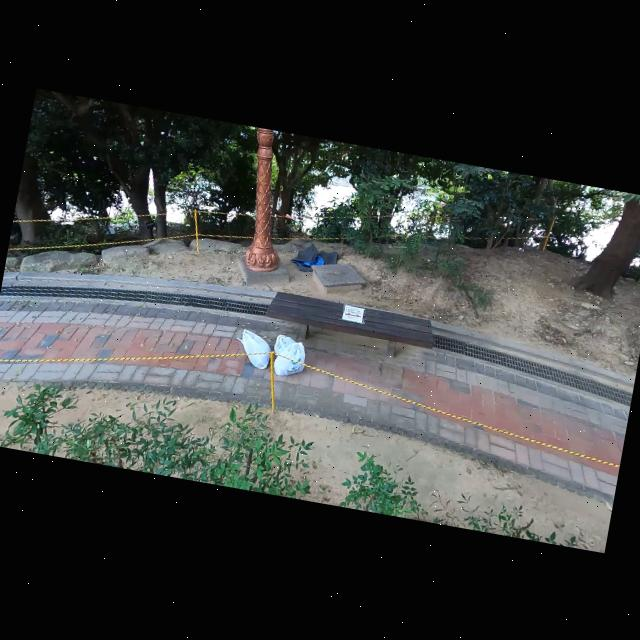trash: (230, 322, 276, 372), (272, 336, 308, 381), (268, 332, 300, 356)
